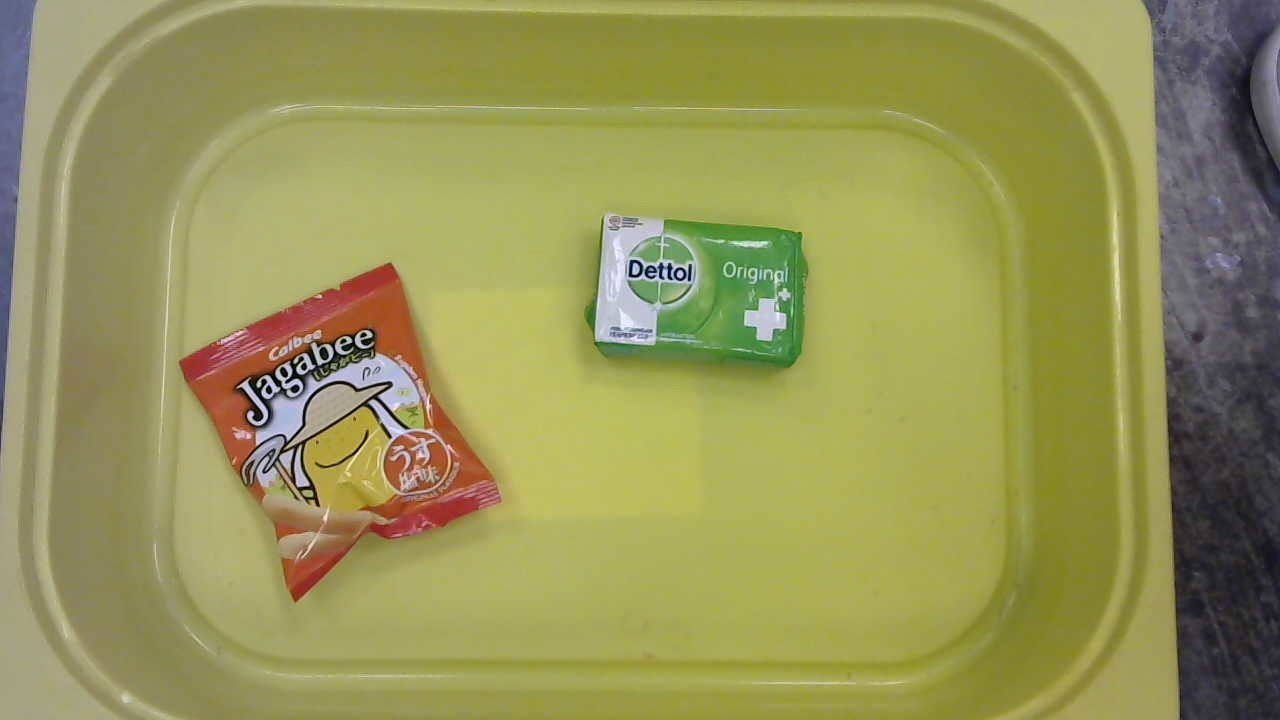Dettol: (580, 207, 811, 372)
JagabeeFarmer: (166, 260, 514, 611)
